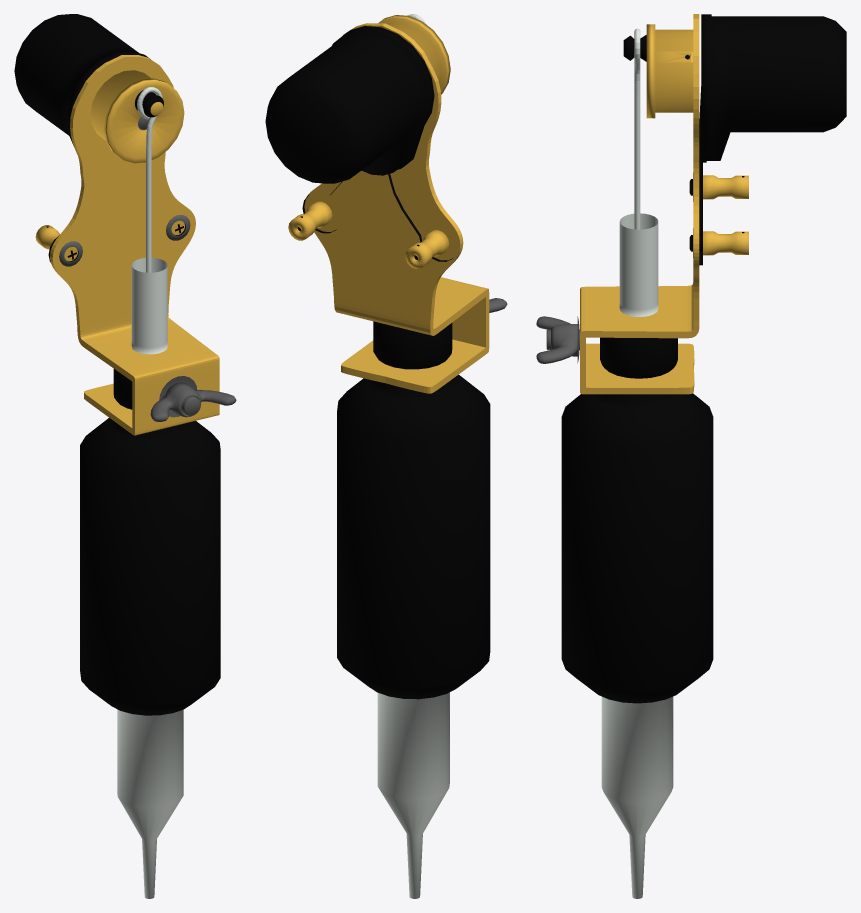
The model's file is tattoo machine.fbx.
3 views of the same model, side by side, from view 1: azimuth 30°, elevation 25°; view 2: azimuth 150°, elevation 25°; view 3: azimuth 270°, elevation 25° (orthographic). The views are drawn at different scales.
Visible parts, largest first — view 1: Cylinder, Plane, Cylinder.003, Cylinder.004, Cylinder.001, Circle, Circle.002, Cylinder.002; view 2: Cylinder, Plane, Cylinder.003, Cylinder.001, Cylinder.004; view 3: Cylinder, Cylinder.003, Plane, Cylinder.001, Cylinder.004, Circle.002, Circle.
Part boxes in pixels (x1,y1,x2,y2): Cylinder: (80, 418, 220, 898); Plane: (50, 55, 219, 435); Cylinder.003: (14, 14, 190, 266); Cylinder.004: (90, 70, 184, 163); Cylinder.001: (113, 257, 167, 409); Circle: (150, 382, 236, 421); Circle.002: (137, 87, 162, 272); Cylinder.002: (159, 376, 200, 417); Cylinder: (337, 374, 490, 898); Plane: (304, 23, 489, 393); Cylinder.003: (265, 26, 452, 268); Cylinder.001: (373, 321, 452, 369); Cylinder.004: (378, 15, 450, 94); Cylinder: (561, 393, 713, 898); Cylinder.003: (689, 14, 846, 265); Plane: (580, 14, 699, 394); Cylinder.001: (600, 213, 677, 378); Cylinder.004: (623, 24, 693, 118); Circle.002: (634, 28, 640, 229); Circle: (536, 316, 577, 363).
Bounding box in the file's own units: 108 × 589 × 188.
